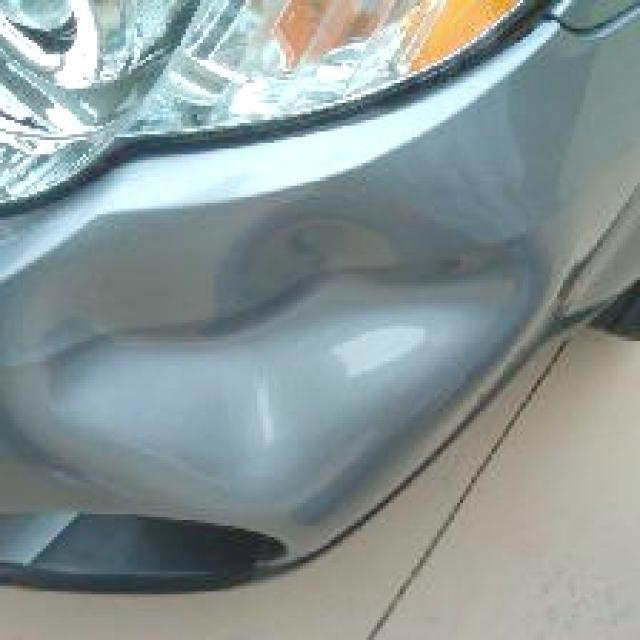minor: (9, 126, 582, 538)
